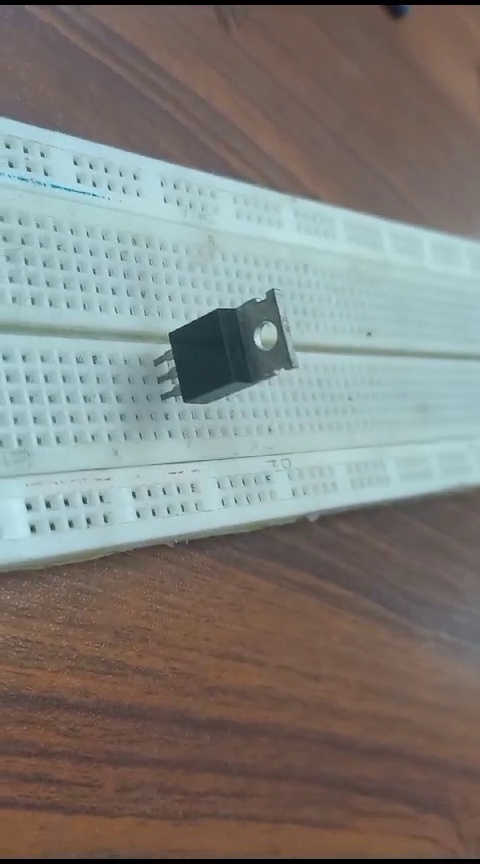voltage regulator: (137, 288, 301, 412)
